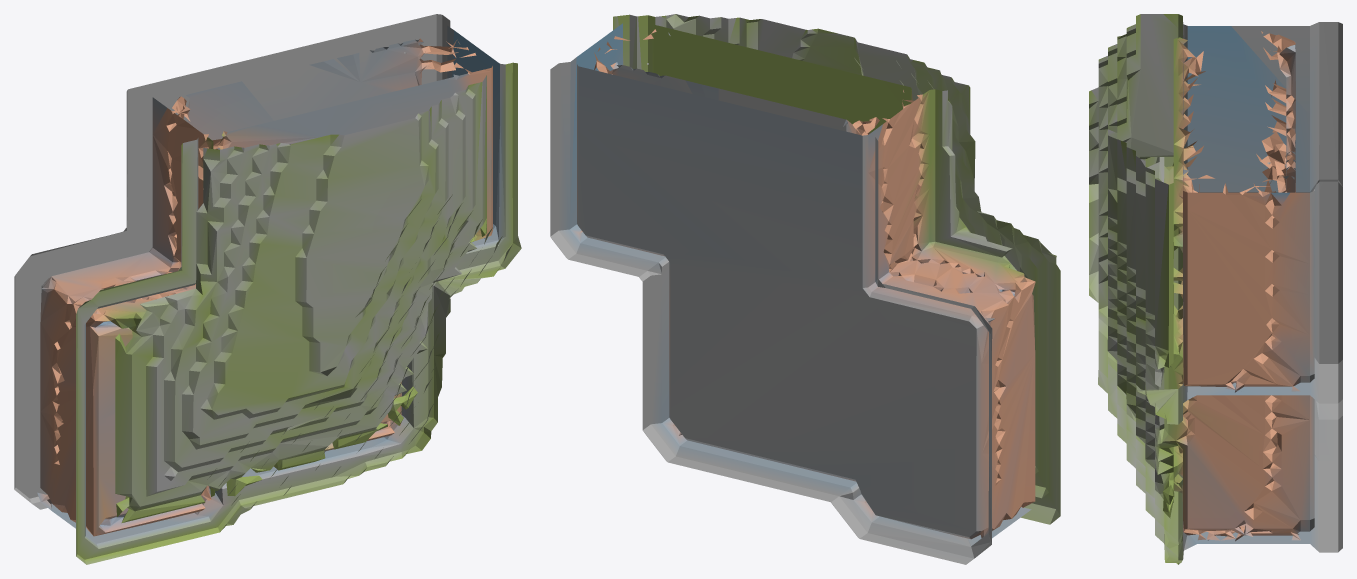
Rendered from 04203_optimized_cutaway.glb.
3 renders of one model, left to right at view 1: azimuth 30°, elevation 25°; view 2: azimuth 150°, elevation 25°; view 3: azimuth 270°, elevation 25°, orthographic. The views are drawn at different scales.
Visible parts, largest first — view 1: world; view 2: world; view 3: world.
Part boxes in pixels (left/top/right/bottom): world: left=14, top=14, right=521, bottom=564; world: left=550, top=14, right=1060, bottom=564; world: left=1089, top=14, right=1342, bottom=564.
Size of the model in its own units: 63 by 54 by 27.
